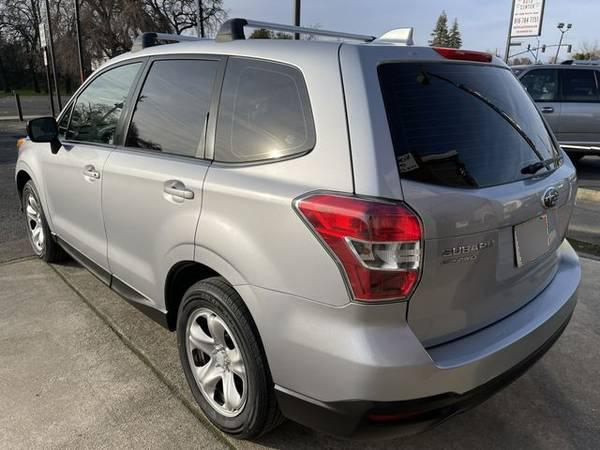Front_Fender: (16, 136, 53, 236)
Front_Left_Door: (45, 138, 117, 284)
Front_Left_Window: (49, 57, 153, 147)
Left_Taillight: (298, 188, 428, 302)
Rear_Bumper: (233, 252, 583, 436)
Rear_Fender: (196, 55, 349, 302)
Rear_Left_Door: (102, 144, 210, 325)
Rear_Left_Window: (115, 55, 226, 161)
Rear_Windshield: (382, 59, 566, 187)
Roof: (67, 34, 516, 196)
Tailgate: (406, 145, 580, 343)
Wheel: (177, 279, 282, 440), (21, 184, 49, 256)
